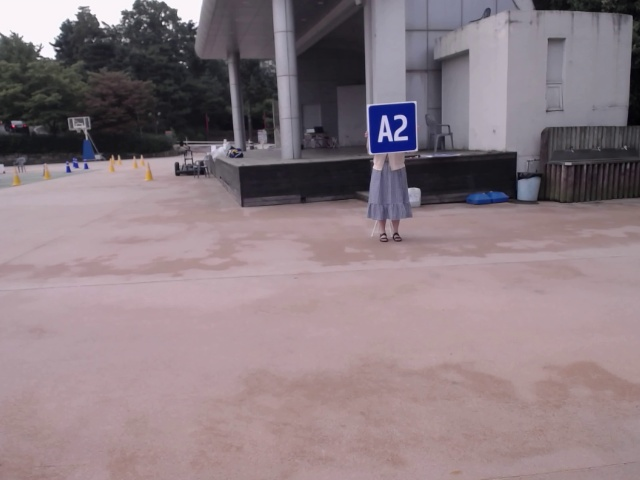delivery_a2: (367, 101, 417, 154)
